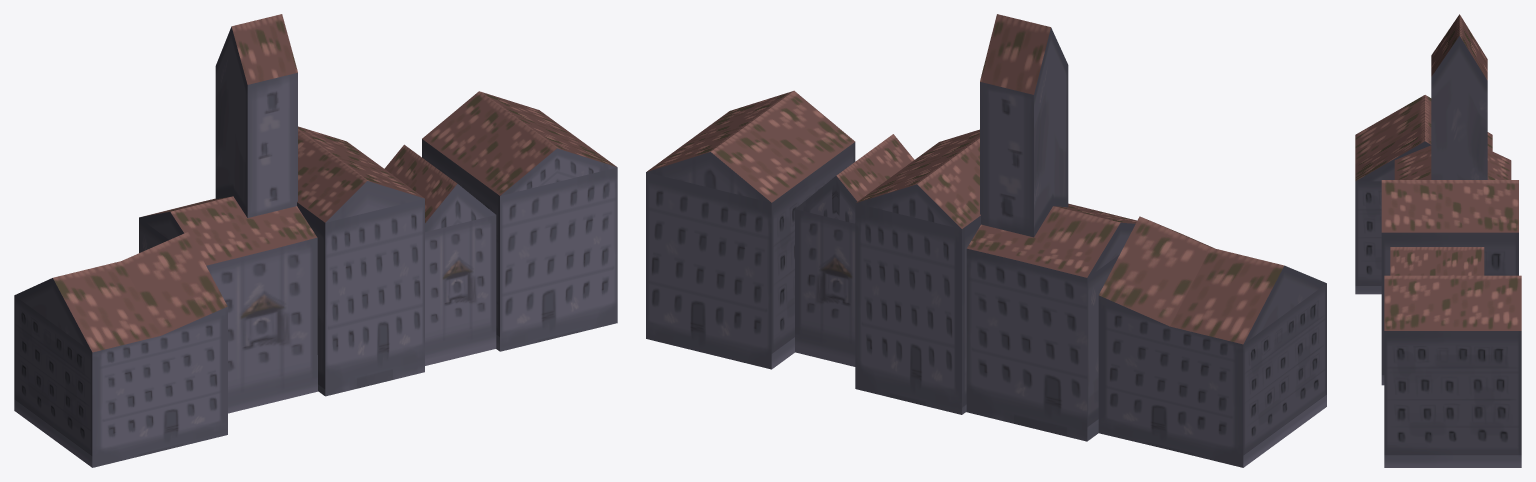
File: obstacle_house2.fbx
3 renders of one model, left to right at view 1: azimuth 30°, elevation 25°; view 2: azimuth 150°, elevation 25°; view 3: azimuth 270°, elevation 25°, orthographic. The views are drawn at different scales.
Parts seen in each view (by area): view 1: obstacle_houses2; view 2: obstacle_houses2; view 3: obstacle_houses2.
Boxes of the visible parts, x1,y1,x2,y2 form: obstacle_houses2: (14, 14, 617, 467); obstacle_houses2: (646, 14, 1326, 467); obstacle_houses2: (1355, 14, 1521, 467).
Size of the model in its own units: 4005 by 2475 by 1212.
Materials: 1 (1 with a texture image).
